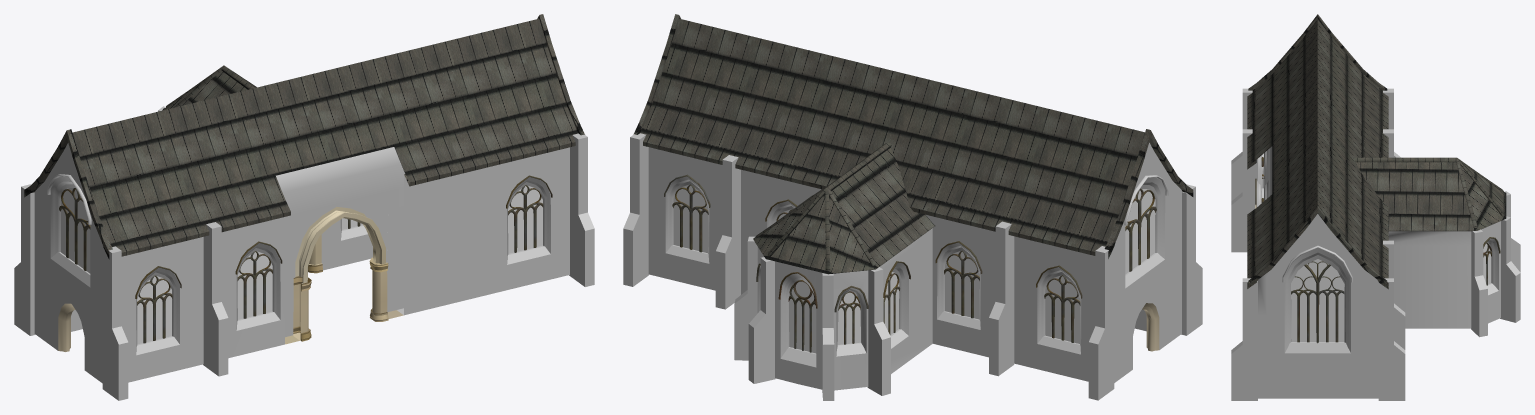
File: BlackfriarsChurchAndNTrans.fbx
3 renders of one model, left to right at view 1: azimuth 30°, elevation 25°; view 2: azimuth 150°, elevation 25°; view 3: azimuth 270°, elevation 25°, orthographic. The views are drawn at different scales.
Parts seen in each view (by area): view 1: ChurchWalls, ChurchButtress, Plane.008, Plane.007, NTWalls, Plane.009, Plane.012, ChurchWindows.008, ChurchWindows.005, ChurchWindows.006, ChurchWindows.007; view 2: ChurchWalls, NTWalls, ChurchButtress, NTButtress, Plane.003, Plane.005, Plane.004, Plane.012, Plane.013, Plane.015, ChurchWindows.008, ChurchWindows.001 (+4 smaller); view 3: ChurchWalls, NTWalls, ChurchButtress, NTButtress, Plane.011, SouthWindow.000, ChurchWalls.001.
Boxes of the visible parts, bbox=[...] form: ChurchWalls: bbox=[24, 14, 584, 383]; ChurchButtress: bbox=[14, 133, 594, 400]; Plane.008: bbox=[237, 251, 272, 319]; Plane.007: bbox=[137, 276, 171, 344]; NTWalls: bbox=[162, 65, 256, 110]; Plane.009: bbox=[508, 186, 542, 253]; Plane.012: bbox=[60, 188, 90, 273]; ChurchWindows.008: bbox=[59, 188, 90, 270]; ChurchWindows.005: bbox=[508, 185, 543, 252]; ChurchWindows.006: bbox=[237, 251, 272, 318]; ChurchWindows.007: bbox=[137, 275, 172, 343]; ChurchWalls: bbox=[633, 14, 1193, 382]; NTWalls: bbox=[753, 141, 935, 390]; ChurchButtress: bbox=[623, 133, 1202, 400]; NTButtress: bbox=[734, 236, 890, 400]; Plane.003: bbox=[673, 184, 708, 253]; Plane.005: bbox=[1045, 275, 1080, 343]; Plane.004: bbox=[945, 251, 979, 319]; Plane.012: bbox=[1125, 189, 1155, 274]; Plane.013: bbox=[789, 281, 816, 353]; Plane.015: bbox=[837, 290, 860, 344]; ChurchWindows.008: bbox=[1125, 188, 1156, 271]; ChurchWindows.001: bbox=[1044, 275, 1080, 342]; ChurchWalls: bbox=[1247, 14, 1388, 398]; NTWalls: bbox=[1353, 157, 1506, 328]; ChurchButtress: bbox=[1231, 88, 1405, 400]; NTButtress: bbox=[1471, 191, 1520, 337]; Plane.011: bbox=[1291, 259, 1344, 341]; SouthWindow.000: bbox=[1291, 261, 1344, 343]; ChurchWalls.001: bbox=[1282, 245, 1352, 282].
Size of the model in its own units: 3391 by 2143 by 1583.
